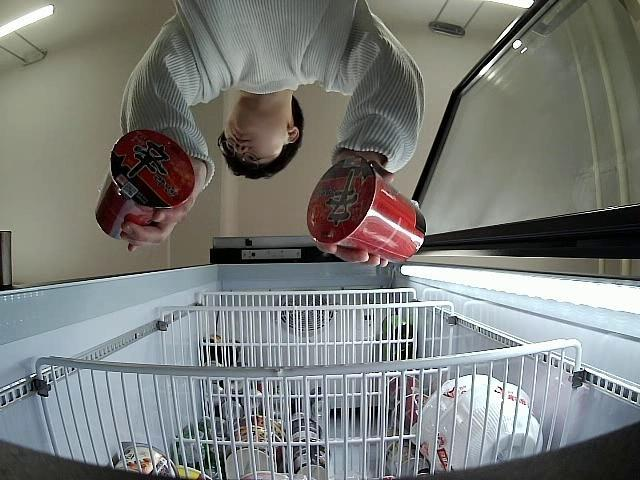02_shinRamen_S: (306, 158, 426, 263), (94, 130, 196, 239)
